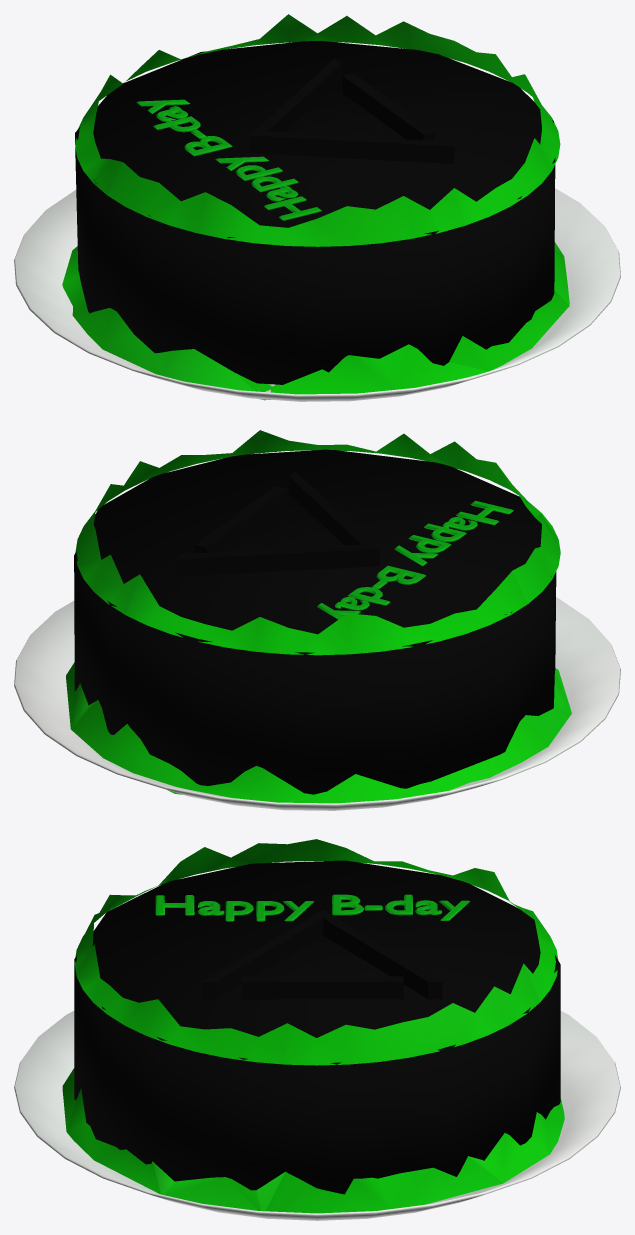
Rendered from evil-cake.dae.
3 renders of one model, top to bottom at view 1: azimuth 30°, elevation 25°; view 2: azimuth 150°, elevation 25°; view 3: azimuth 270°, elevation 25°, orthographic.
Parts seen in each view (by area): view 1: Circle; view 2: Circle; view 3: Circle.
Boxes of the visible parts, x1,y1,x2,y2 form: Circle: [14, 14, 620, 401]; Circle: [14, 430, 620, 810]; Circle: [14, 839, 620, 1220].
Bounding box in the file's own units: 0.1503 × 0.1503 × 0.0515.
Materials: 1 (1 with a texture image).
